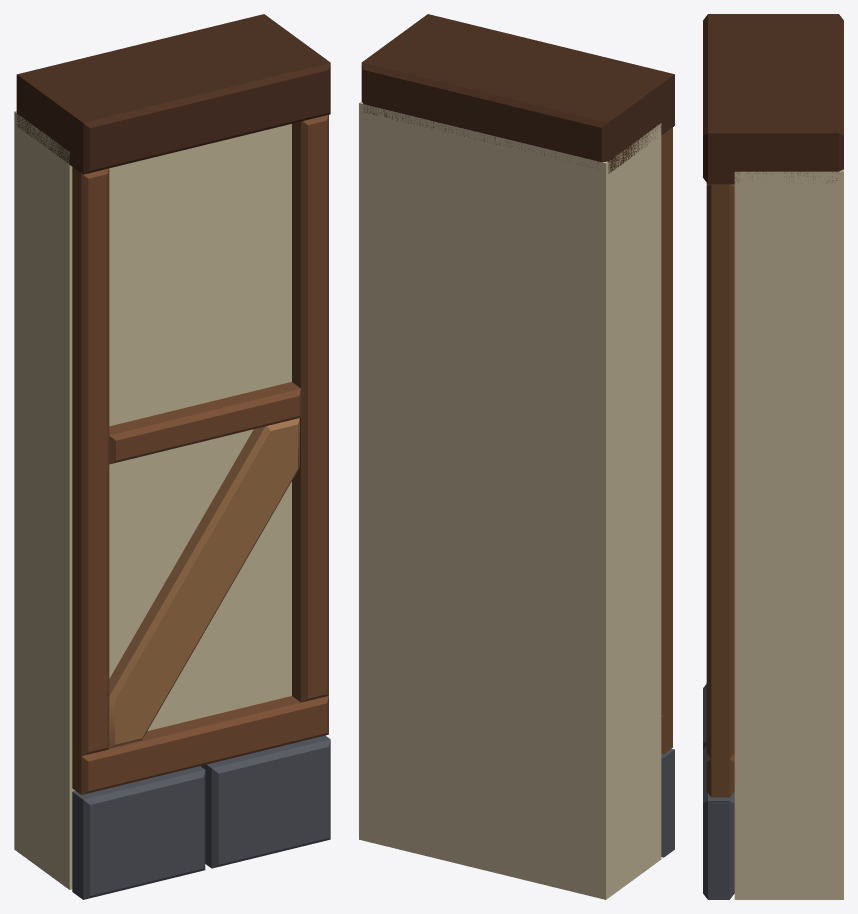
Rendered from WallStraight_05.glb.
3 renders of one model, left to right at view 1: azimuth 30°, elevation 25°; view 2: azimuth 150°, elevation 25°; view 3: azimuth 270°, elevation 25°, orthographic.
Visible parts, largest first — view 1: WallStraight_05; view 2: WallStraight_05; view 3: WallStraight_05.
Part boxes in pixels (x1,y1,x2,y2): WallStraight_05: (14, 14, 330, 899); WallStraight_05: (359, 14, 674, 899); WallStraight_05: (703, 14, 843, 899).
Size of the model in its own units: 4 by 12 by 2.
